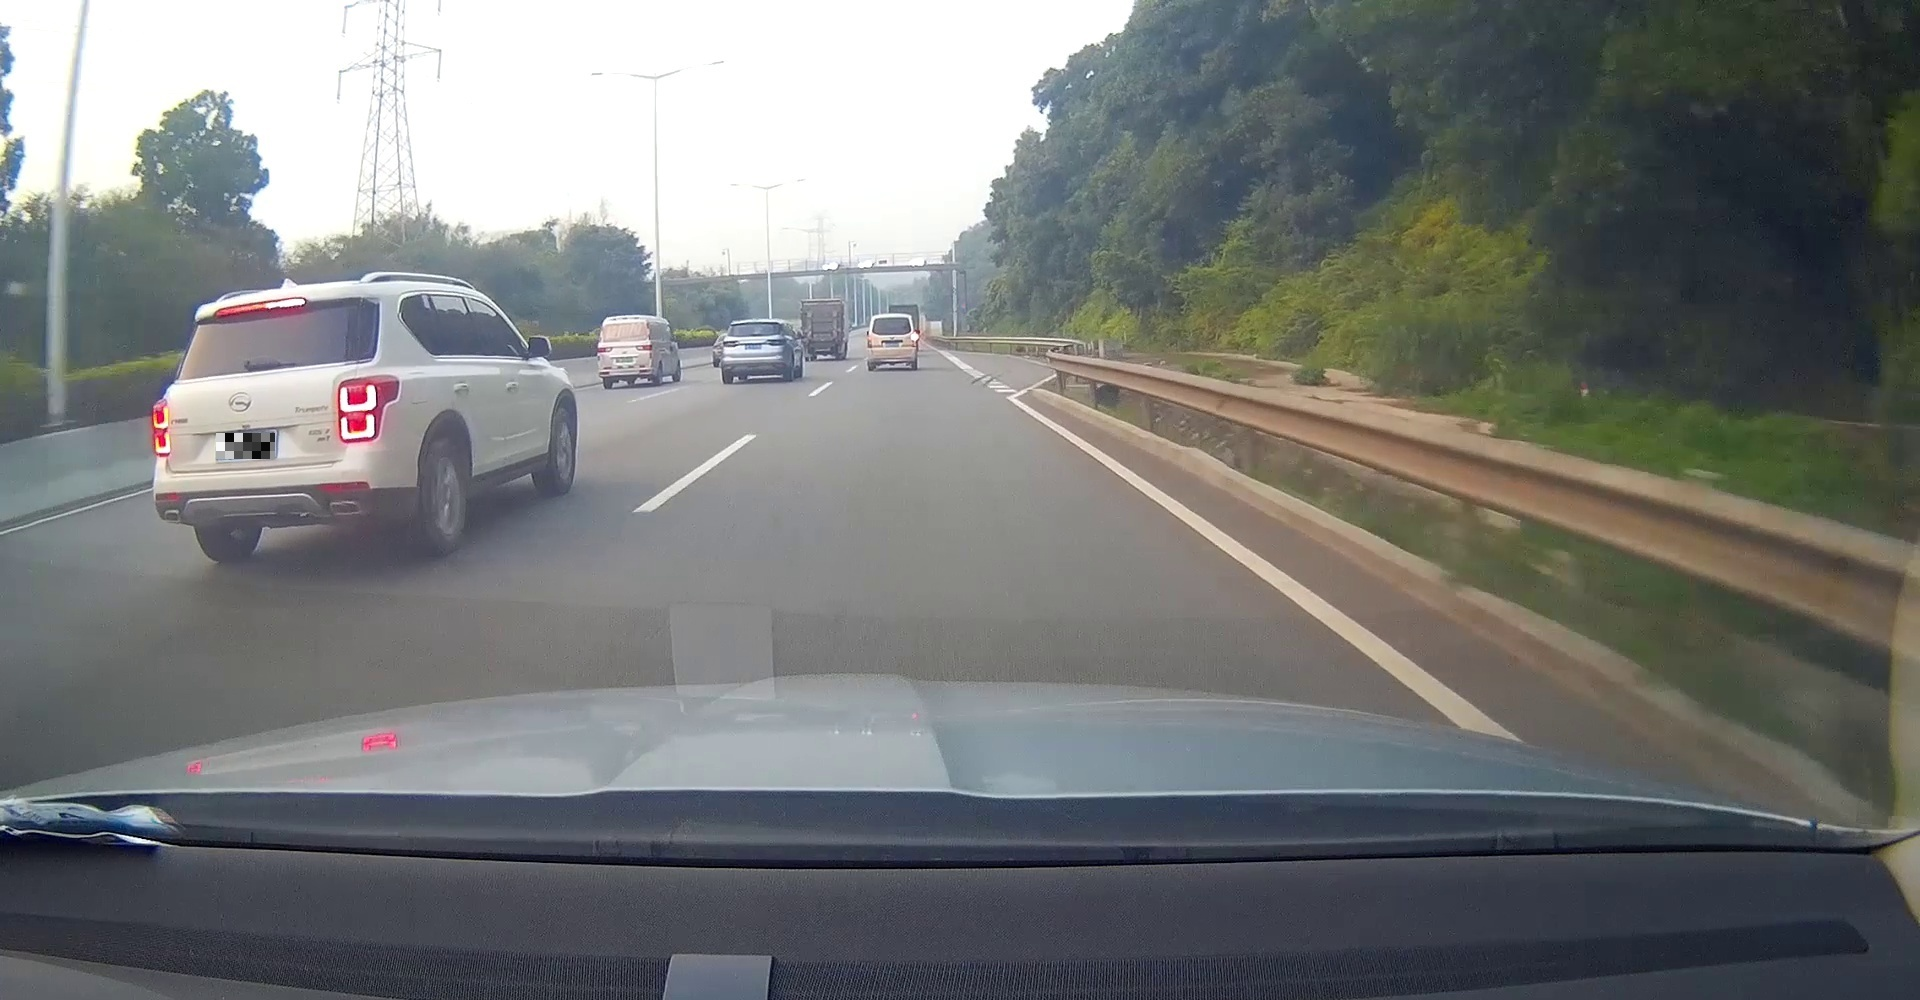L_light: (151, 398, 171, 457), (596, 346, 613, 352)
R_light: (337, 374, 401, 443), (636, 344, 651, 352)
T_light: (213, 297, 307, 319), (622, 317, 630, 320)
day-brake: (149, 283, 408, 562)
day-no: (596, 313, 655, 387)
plate_1: (216, 433, 276, 459)
